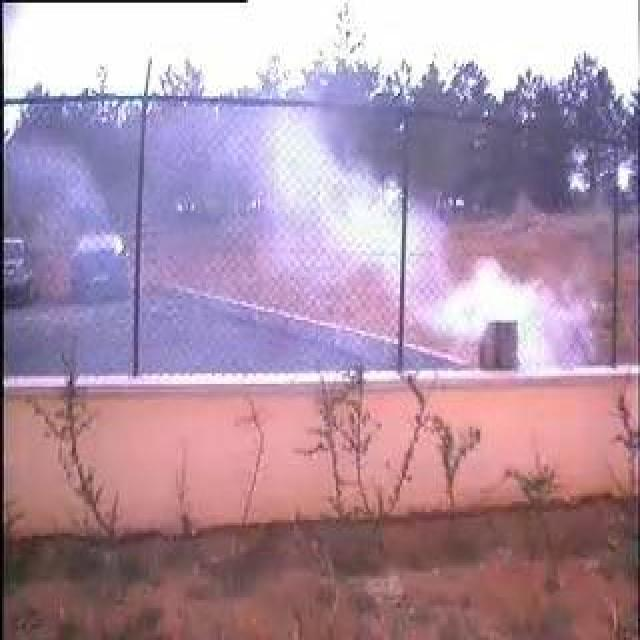Smoke: (219, 107, 583, 370)
